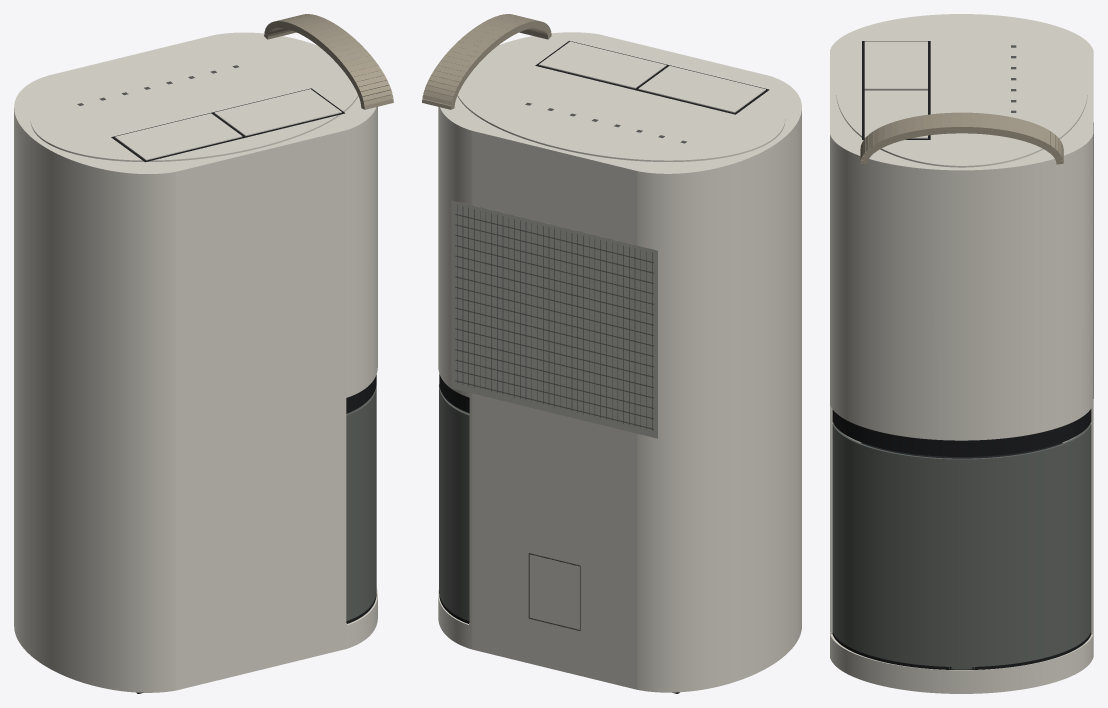
3 views of the same model, side by side, from view 1: azimuth 30°, elevation 25°; view 2: azimuth 150°, elevation 25°; view 3: azimuth 270°, elevation 25° (orthographic).
Visible parts, largest first — view 1: door_shell, ClosedDeflectorEstimate_0, CurvedTankWindowEstimate, ArchedGripEstimate_0, CasterEstimate_125_95; view 2: door_shell, rear_filter_outline, ClosedDeflectorEstimate_0, rear_filter_slit_0, CurvedTankWindowEstimate, ArchedGripEstimate_0, CasterEstimate_125_95, rear_drain_access; view 3: door_shell, CurvedTankWindowEstimate, ClosedDeflectorEstimate_0, CasterEstimate_125_95, ArchedGripEstimate_0, TankInteriorEstimate.
Boxes of the visible parts, bbox=[...] form: door_shell: bbox=[14, 32, 377, 692]; ClosedDeflectorEstimate_0: bbox=[30, 42, 358, 161]; CurvedTankWindowEstimate: bbox=[346, 385, 376, 621]; ArchedGripEstimate_0: bbox=[264, 14, 393, 109]; CasterEstimate_125_95: bbox=[111, 88, 376, 693]; door_shell: bbox=[438, 32, 801, 692]; rear_filter_outline: bbox=[451, 200, 657, 438]; ClosedDeflectorEstimate_0: bbox=[457, 41, 785, 161]; rear_filter_slit_0: bbox=[455, 205, 653, 430]; CurvedTankWindowEstimate: bbox=[439, 384, 469, 621]; ArchedGripEstimate_0: bbox=[422, 14, 551, 109]; CasterEstimate_125_95: bbox=[439, 41, 769, 693]; rear_drain_access: bbox=[525, 102, 686, 630]; door_shell: bbox=[830, 14, 1093, 693]; CurvedTankWindowEstimate: bbox=[832, 424, 1091, 669]; ClosedDeflectorEstimate_0: bbox=[836, 15, 1087, 167]; CasterEstimate_125_95: bbox=[832, 41, 1091, 669]; ArchedGripEstimate_0: bbox=[860, 112, 1063, 164]; TankInteriorEstimate: bbox=[861, 442, 1062, 458].
Bounding box in the file's own units: 0.415 × 0.715 × 0.296.
